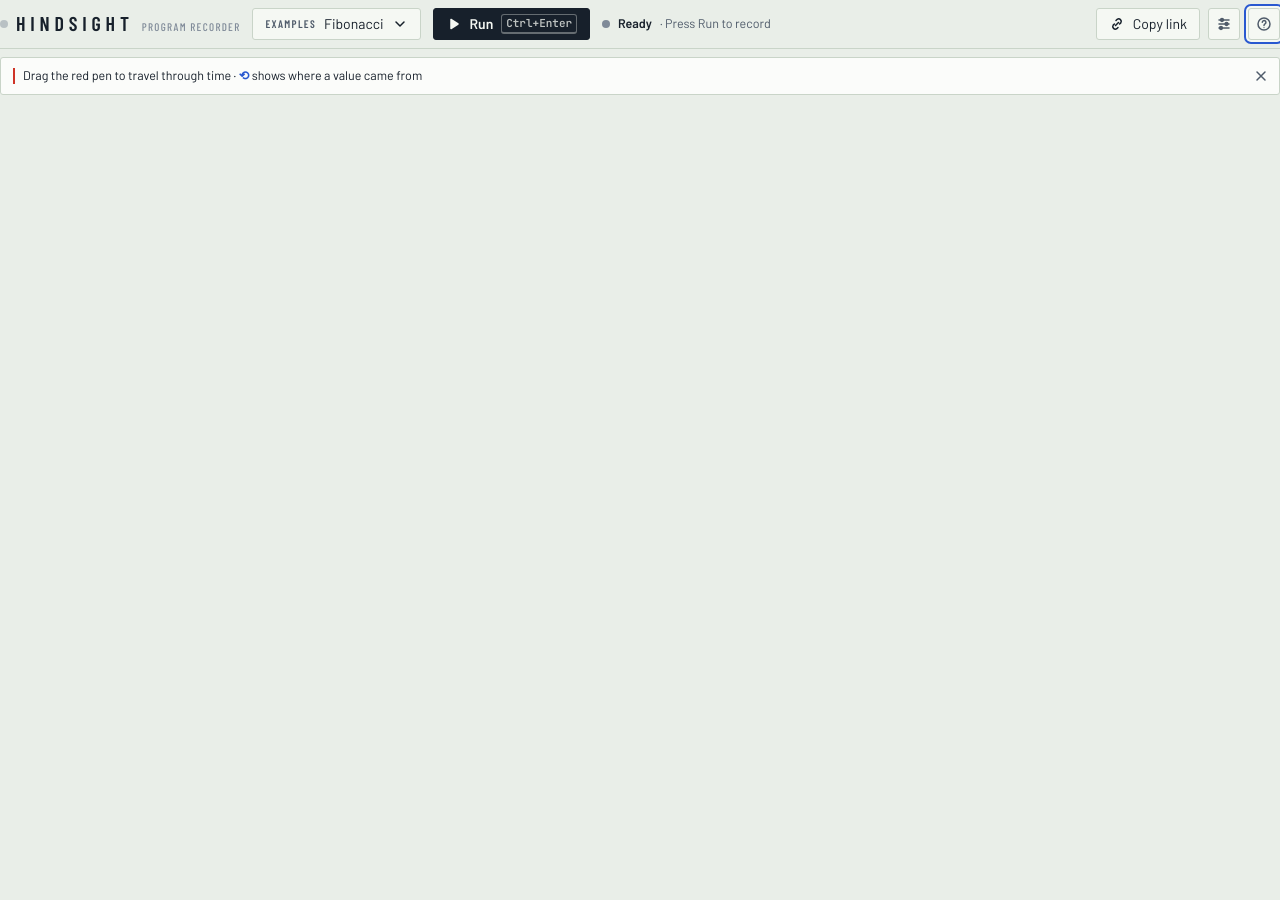
Header › the help dialog traps focus and closes on Escape
The width and height of the screenshot is (1280, 900).
Click the button named "Help and shortcuts": (1264, 24) 1248,8 -> 1279,40
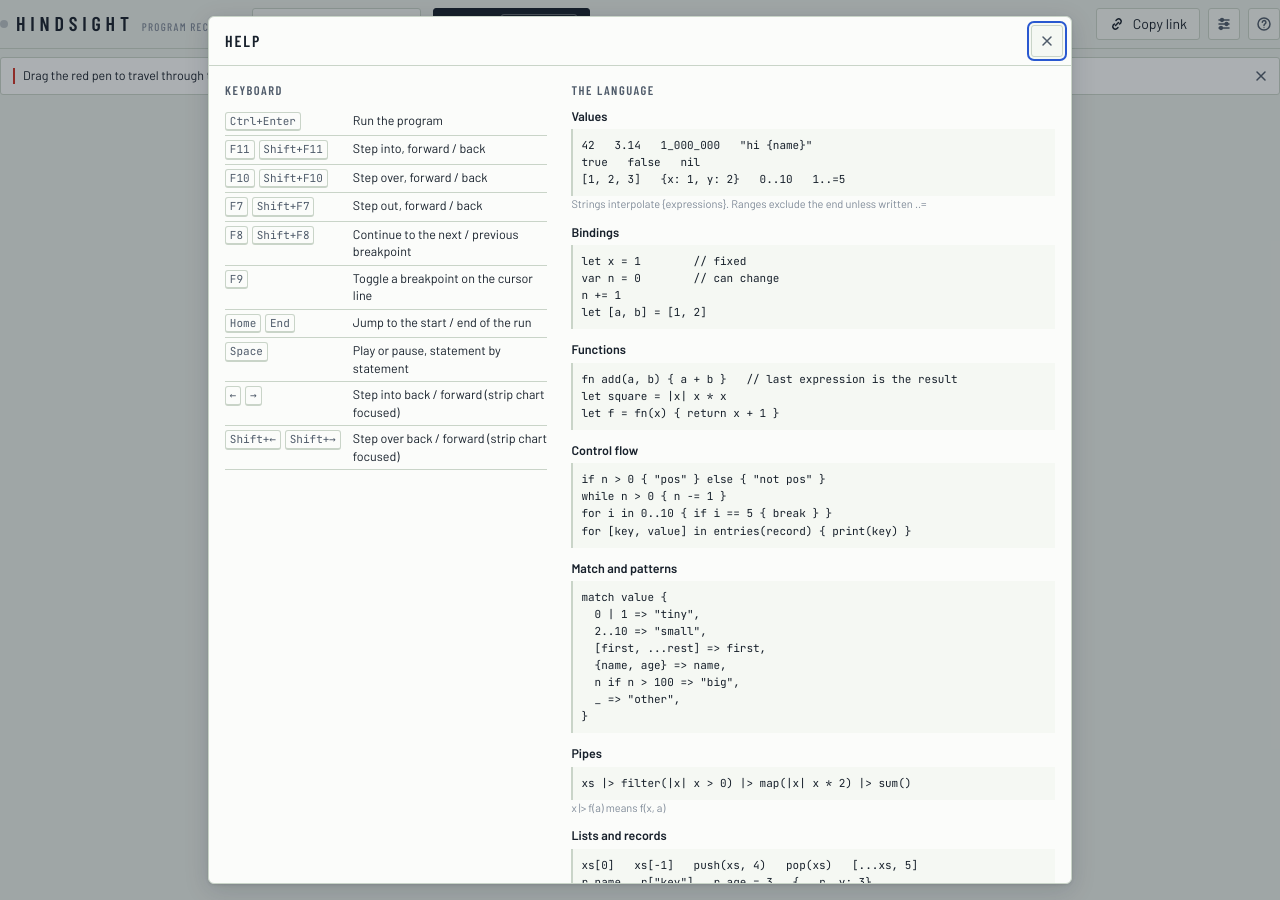
Expected: the text "F11" is shown, 225,140 -> 254,160
Expected: the heading "Pipes" is shown, 571,745 -> 602,761
Press Tab in the button named "Close help", box 1031,25 -> 1063,57
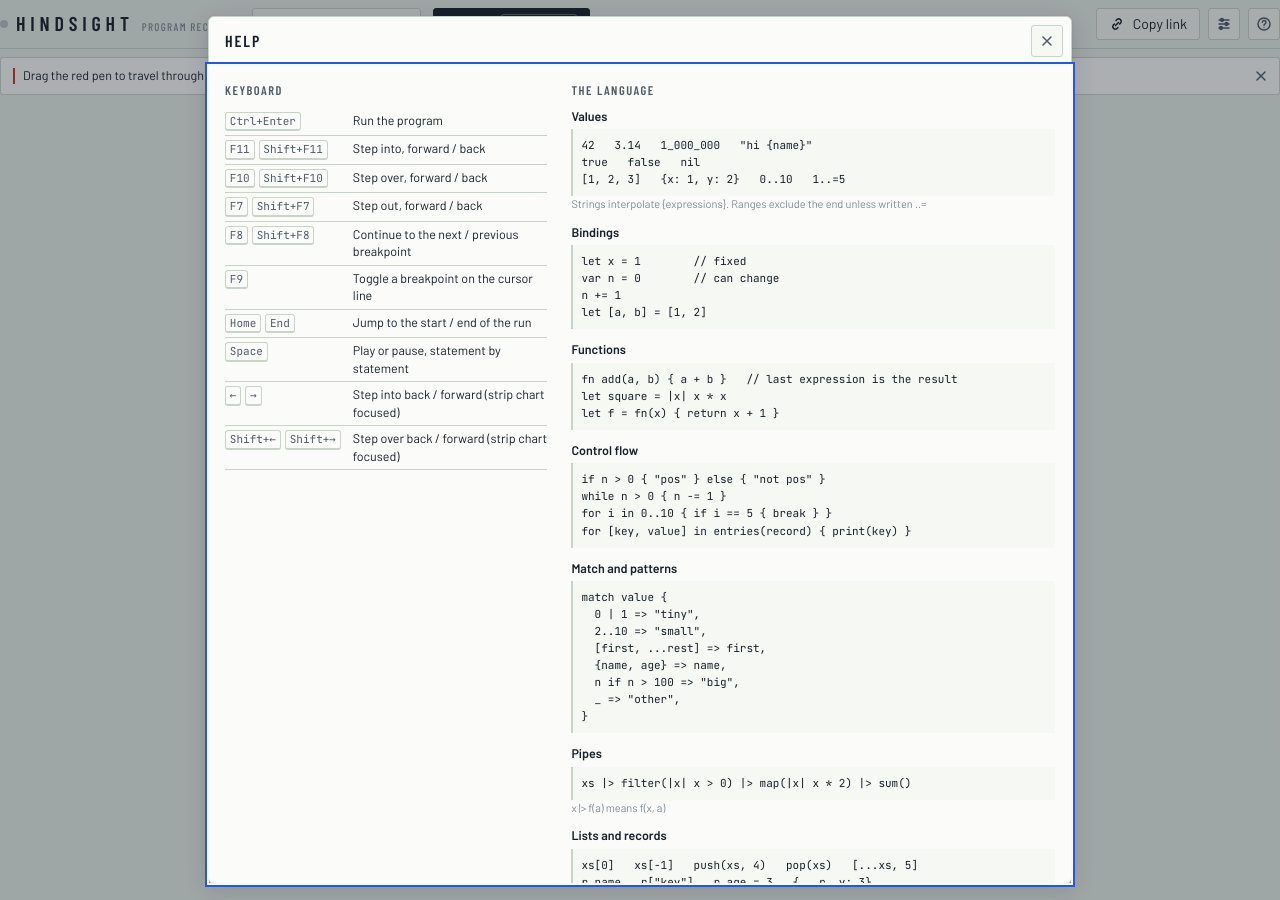
Press Escape in the dialog "Help"
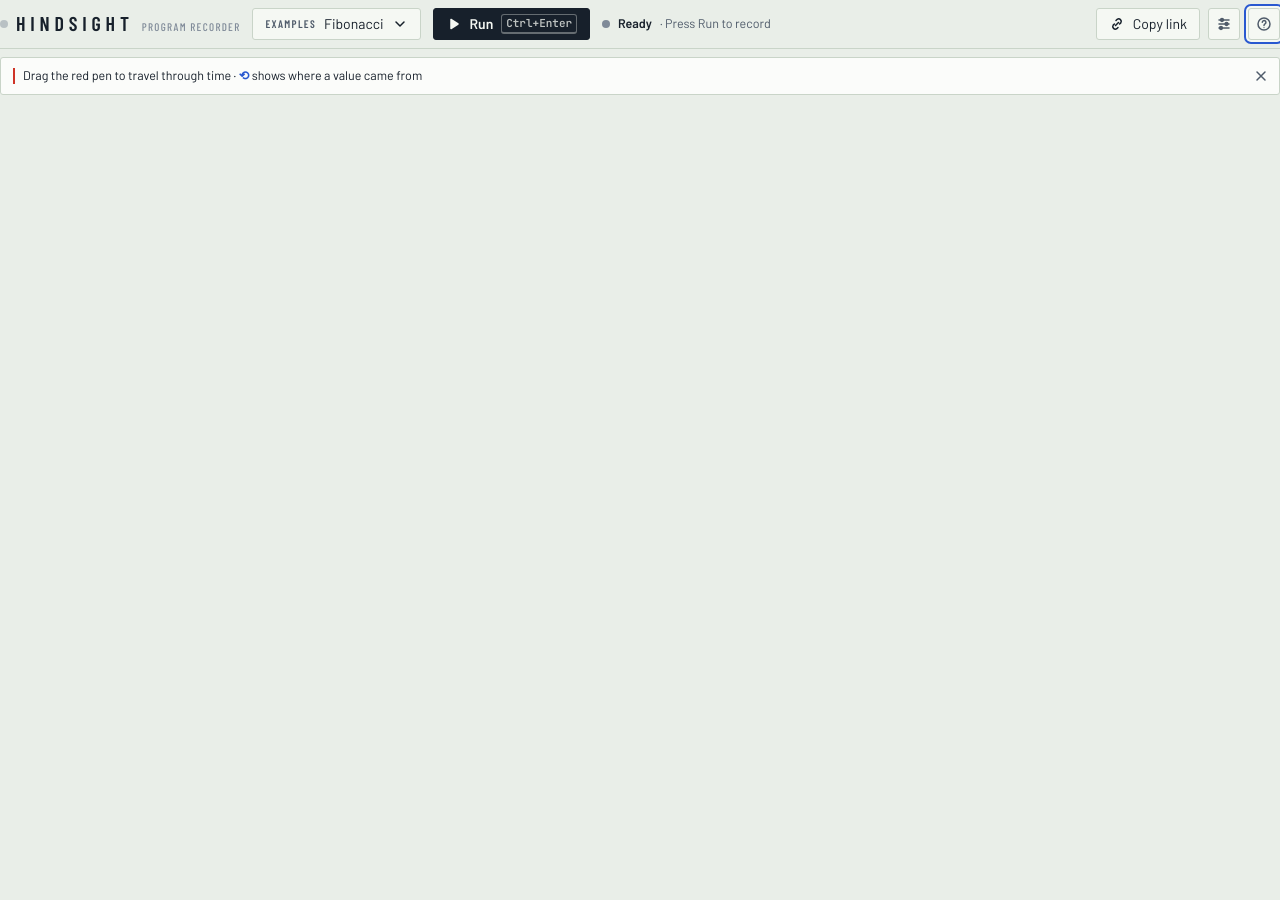
Expected: the heading "Help" is gone
